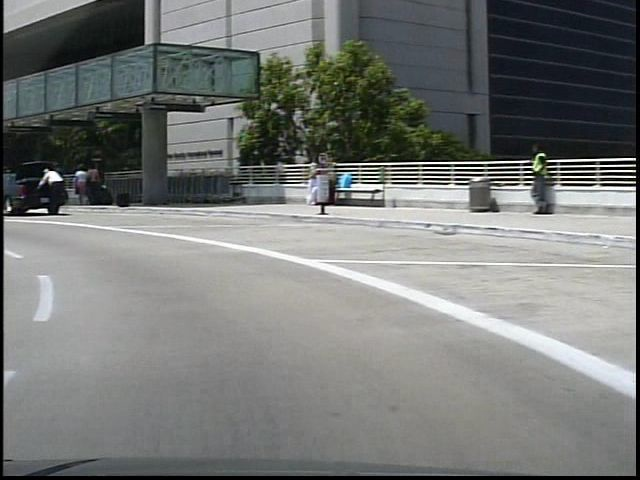person: (518, 142, 545, 221), (32, 166, 63, 219), (82, 161, 97, 209), (69, 166, 83, 207)
